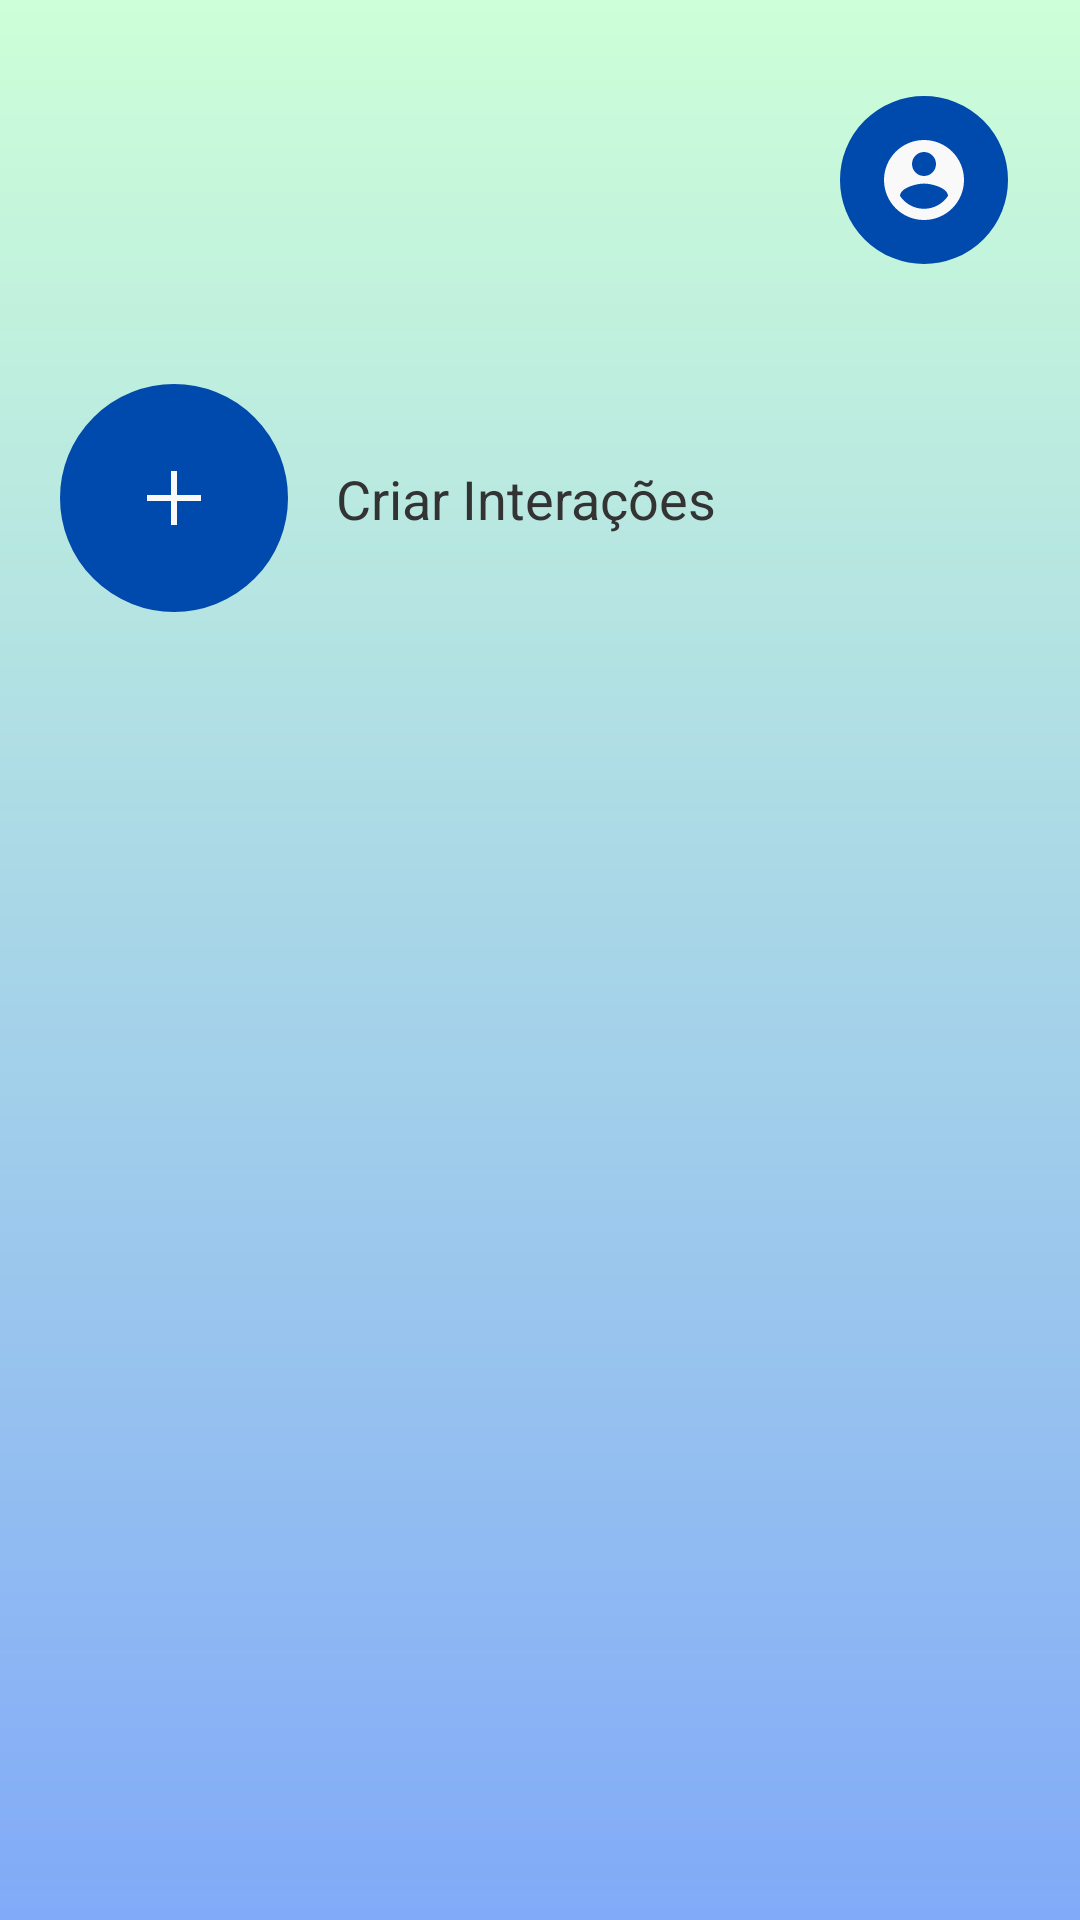

Screen size 1080 × 1920. Icon name, then its box in pixels as (x1=x1, y1=y1, x2=x2, y2=y2):
Adicionar: (x1=60, y1=384, x2=288, y2=612)
